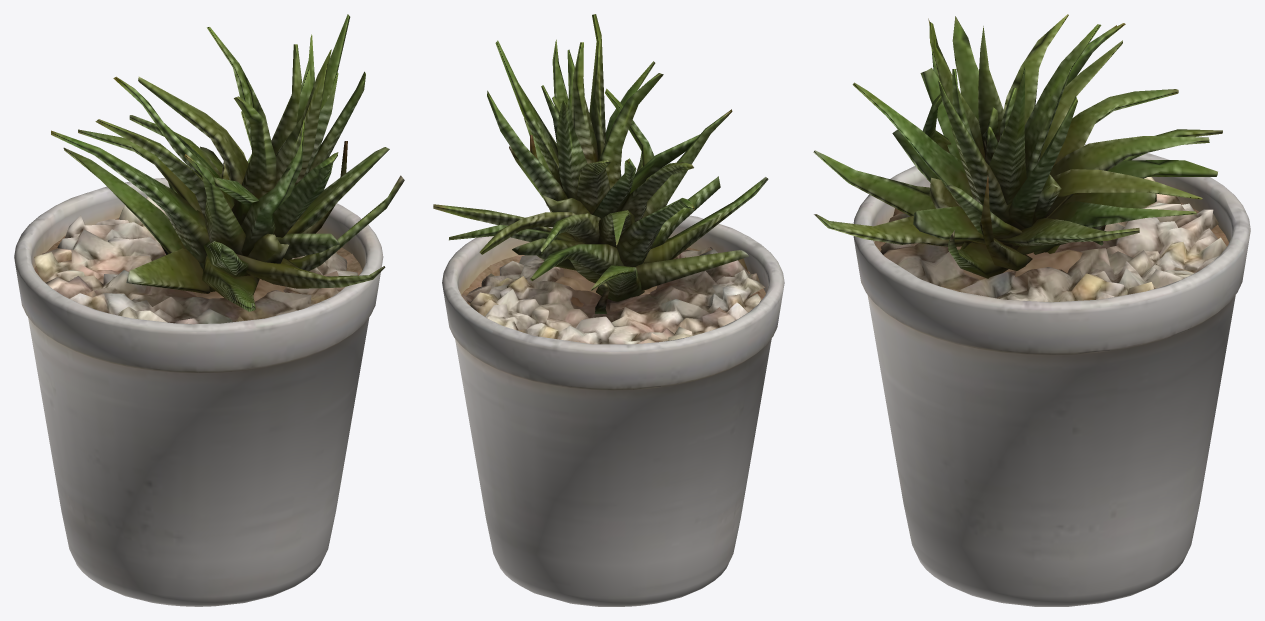
The model's file is potted_plant_04.l.afe8083f.glb.
The picture shows the model from 3 angles, left to right: view 1: azimuth 30°, elevation 25°; view 2: azimuth 150°, elevation 25°; view 3: azimuth 270°, elevation 25°; orthographic projection. The views are drawn at different scales.
Visible parts, largest first — view 1: potted_plant_04_pot, potted_plant_04_plant, potted_plant_04_ground, potted_plant_04_dirt; view 2: potted_plant_04_pot, potted_plant_04_plant, potted_plant_04_ground, potted_plant_04_dirt; view 3: potted_plant_04_pot, potted_plant_04_plant, potted_plant_04_ground, potted_plant_04_dirt.
Part boxes in pixels (bbox=[...]): potted_plant_04_pot: bbox=[14, 178, 383, 606]; potted_plant_04_plant: bbox=[51, 14, 404, 311]; potted_plant_04_ground: bbox=[34, 196, 357, 324]; potted_plant_04_dirt: bbox=[34, 218, 362, 304]; potted_plant_04_pot: bbox=[442, 215, 784, 606]; potted_plant_04_plant: bbox=[433, 14, 768, 313]; potted_plant_04_ground: bbox=[462, 247, 765, 344]; potted_plant_04_dirt: bbox=[461, 247, 765, 307]; potted_plant_04_pot: bbox=[853, 144, 1250, 606]; potted_plant_04_plant: bbox=[813, 14, 1222, 278]; potted_plant_04_ground: bbox=[880, 177, 1226, 302]; potted_plant_04_dirt: bbox=[874, 203, 1228, 296].
Size of the model in its own units: 0.1679 by 0.2672 by 0.1845.
1 material, 1 textured.
